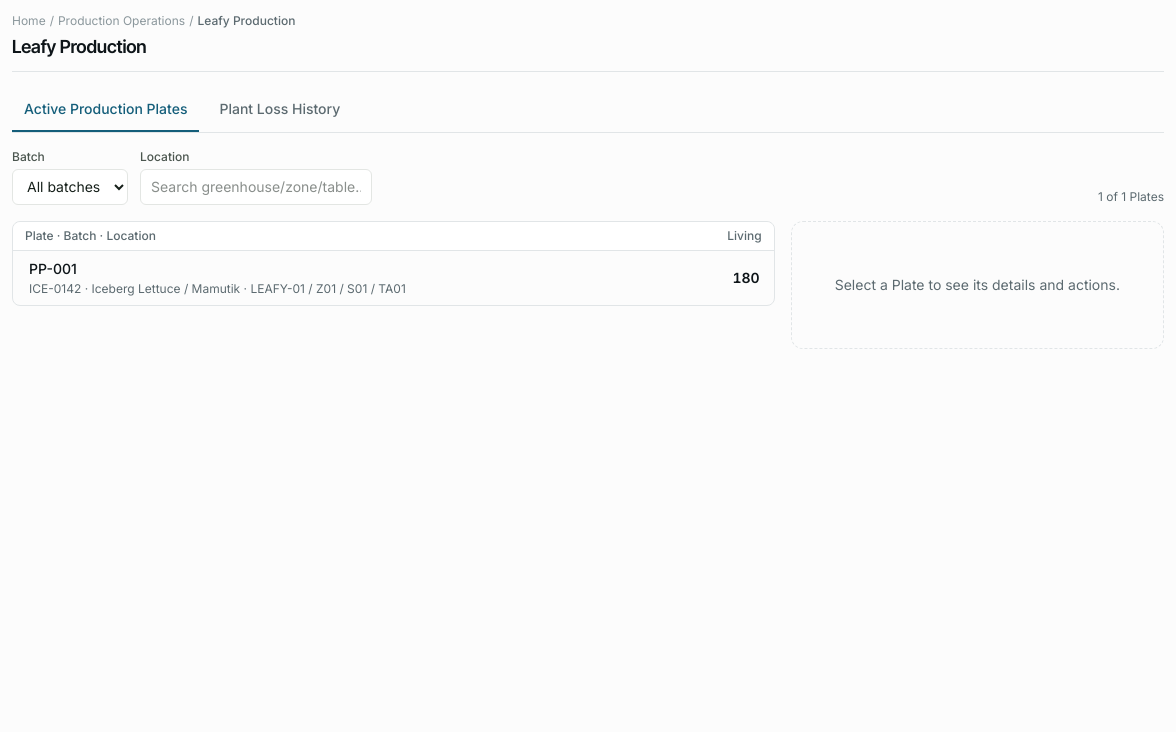
Test case: LeafyProductionPage › completes the full Record Plant Loss flow: configure -> review -> confirm -> success
Expected: the text "PP-001" is shown, 29,258 -> 77,278
Click the button "PP-001". click: (375, 278)
box: 29,258 -> 720,296
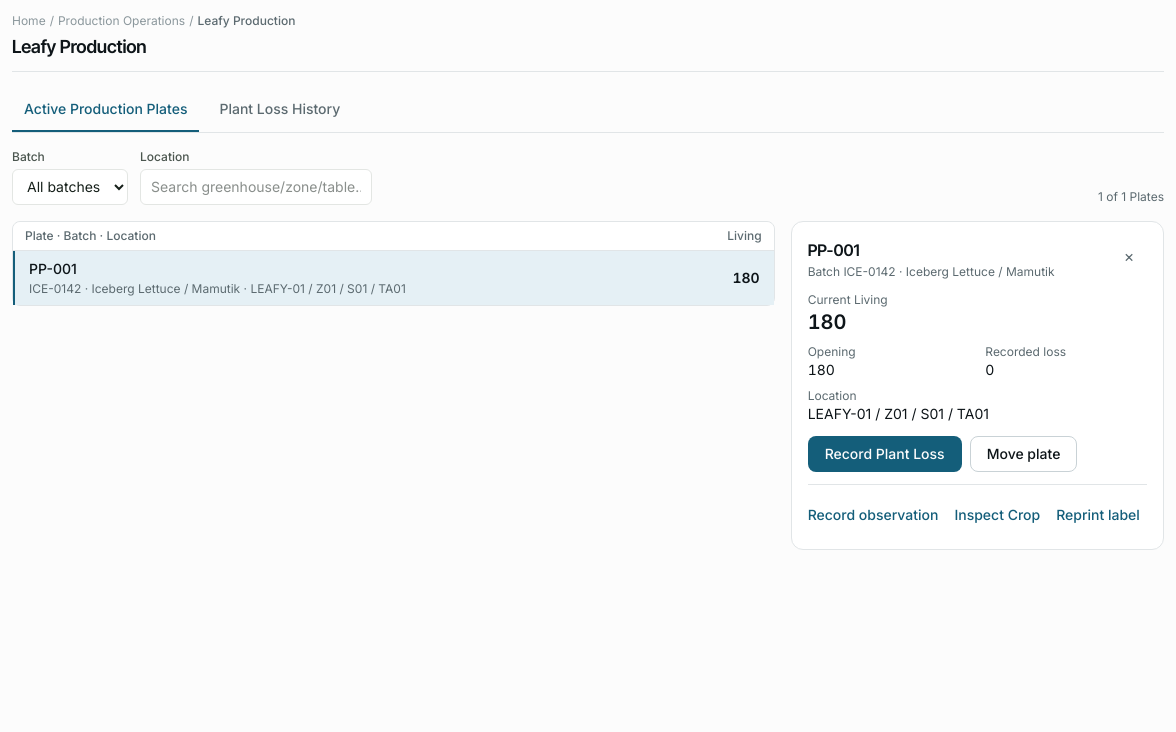
Click the button "Record Plant Loss". click: (885, 454)
box: 808,436 -> 962,472
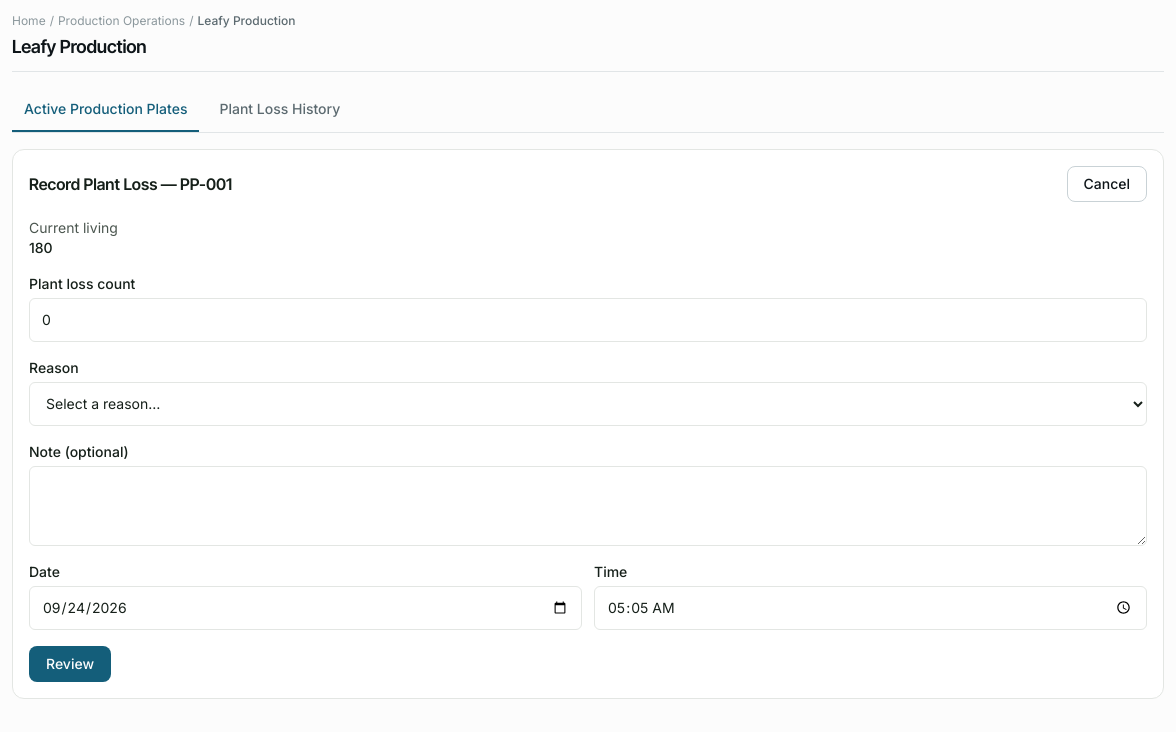
Now the number field labelled "Plant loss count" is shown
Replace the text in the number field labelled "Plant loss count" with "5". click: (588, 320)
box: 29,298 -> 1147,342
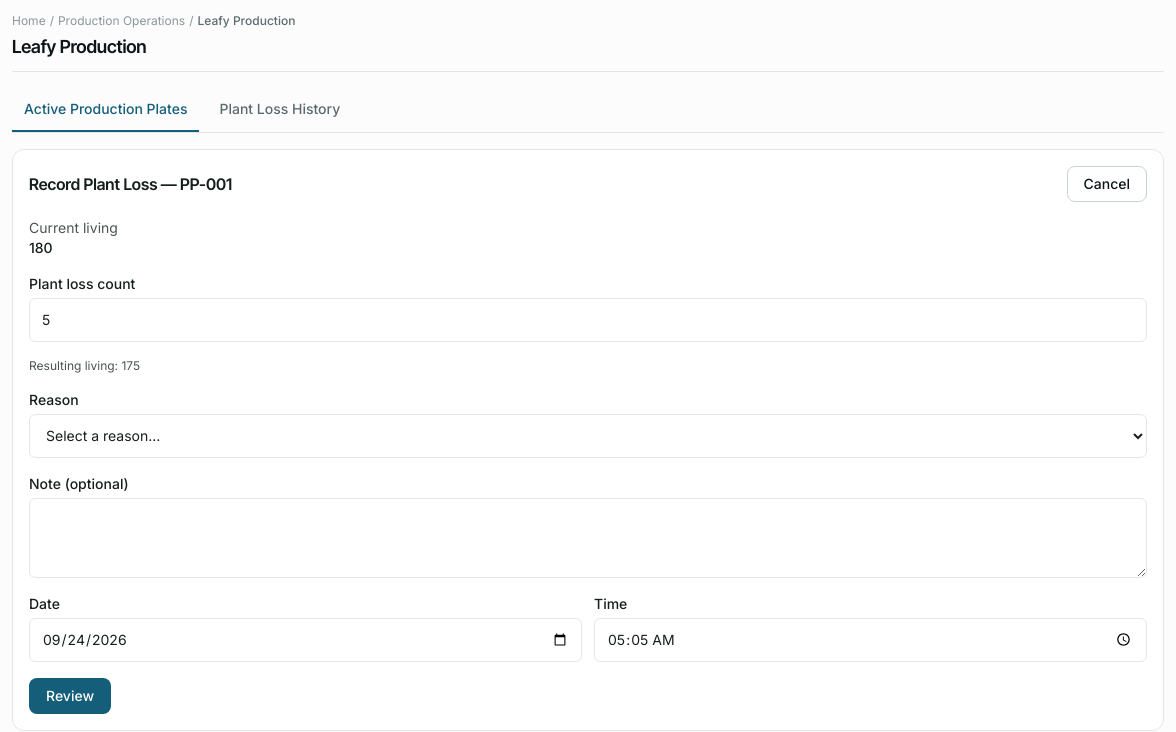
Select "Dead" in the dropdown labelled "Reason". click: (588, 436)
box: 29,414 -> 1147,458
Type "2026-08-22" into the date field labelled "Date". click: (306, 640)
box: 29,618 -> 582,662
Replace the text in the time field labelled "Time" with "09:00". click: (870, 640)
box: 594,618 -> 1147,662
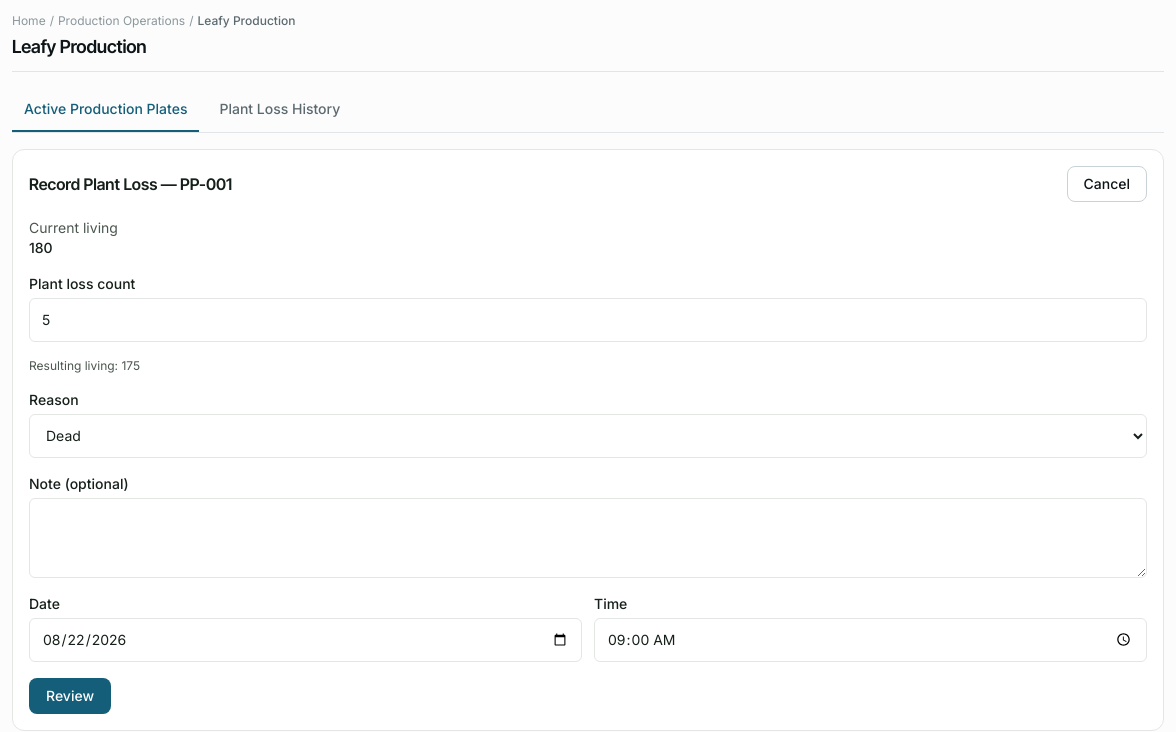
Click the button "Review". click: (70, 696)
box: 29,678 -> 111,714
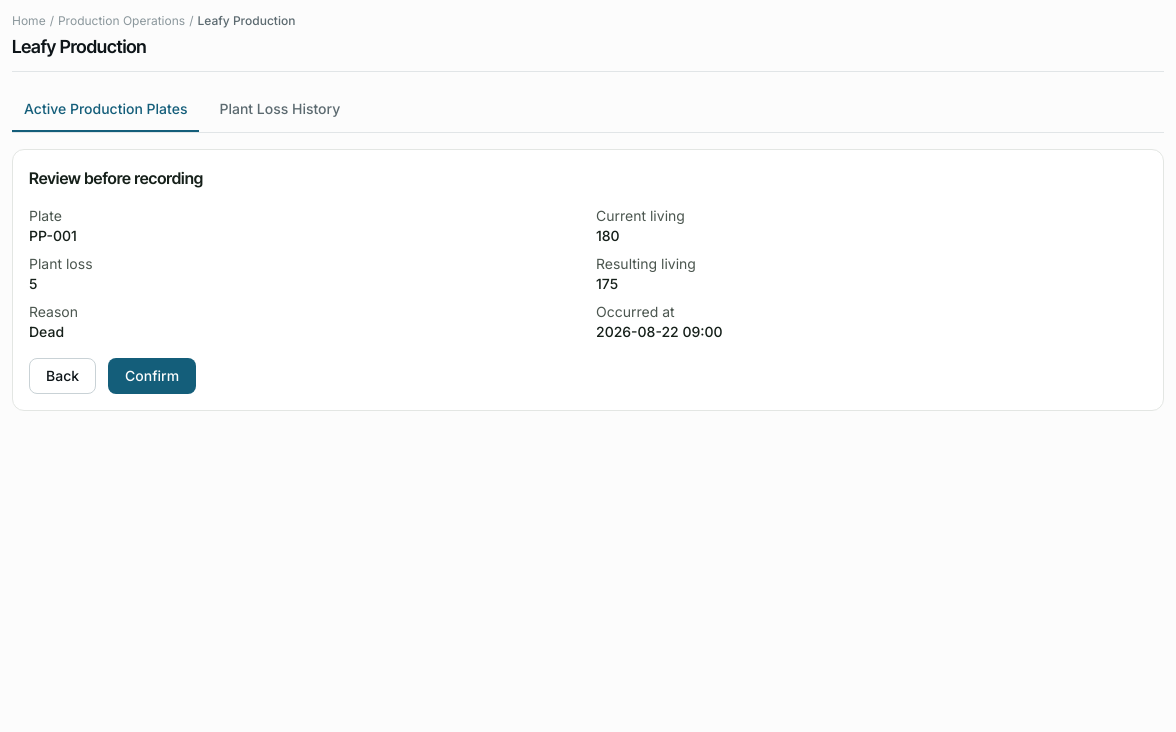
Now the text "175" is shown, box 596,274 -> 618,292
Now the heading "Review before recording" is shown, box 29,168 -> 203,188
Click the button "Confirm". click: (152, 376)
box: 108,358 -> 196,394
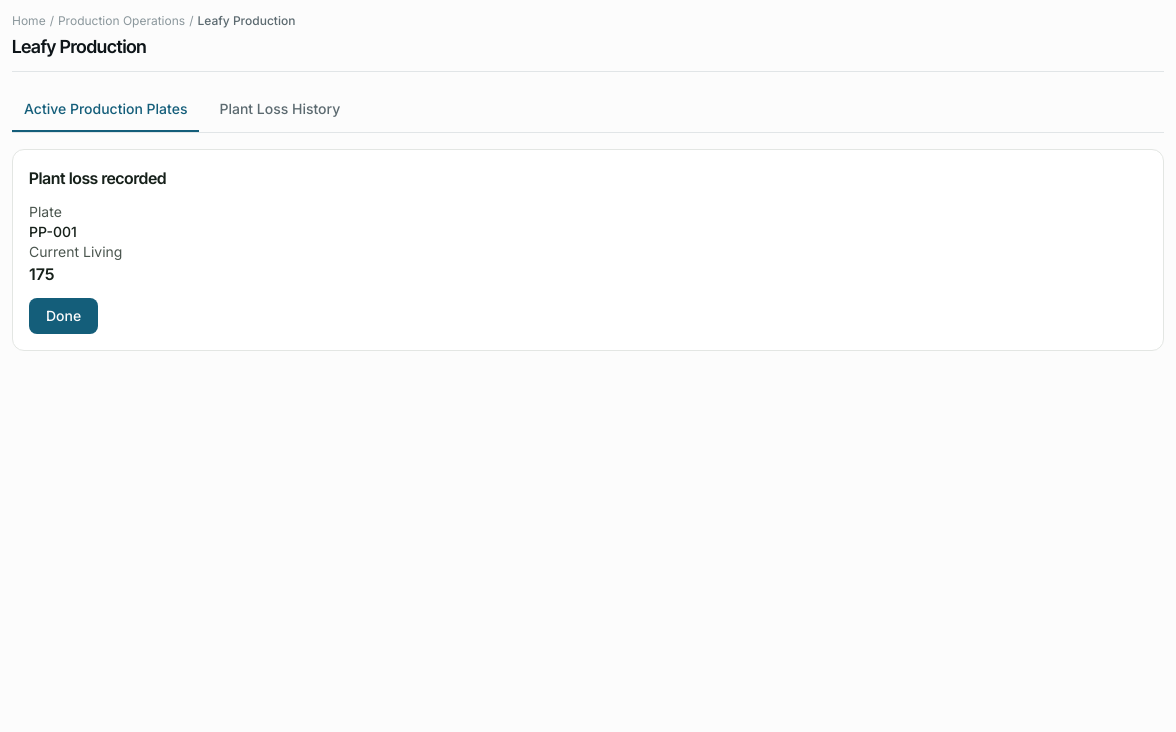
Now the text "175" is shown, box 29,264 -> 55,284
Now the heading "Plant loss recorded" is shown, box 29,168 -> 166,188
